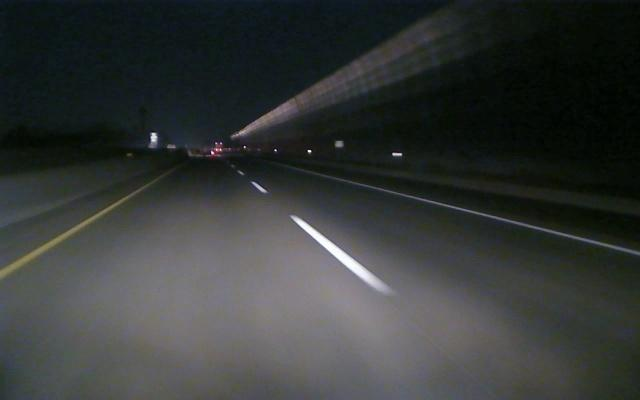lane: (328, 176, 639, 257), (252, 181, 396, 296), (2, 198, 125, 278)
